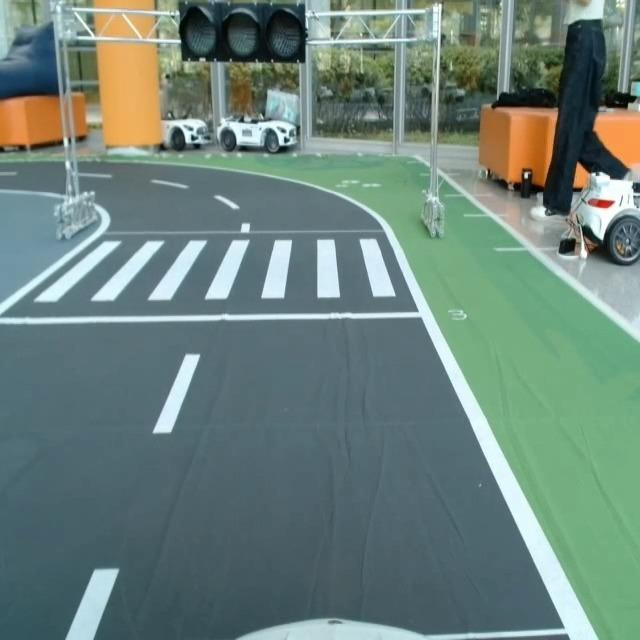traffic-light: (176, 1, 313, 64)
